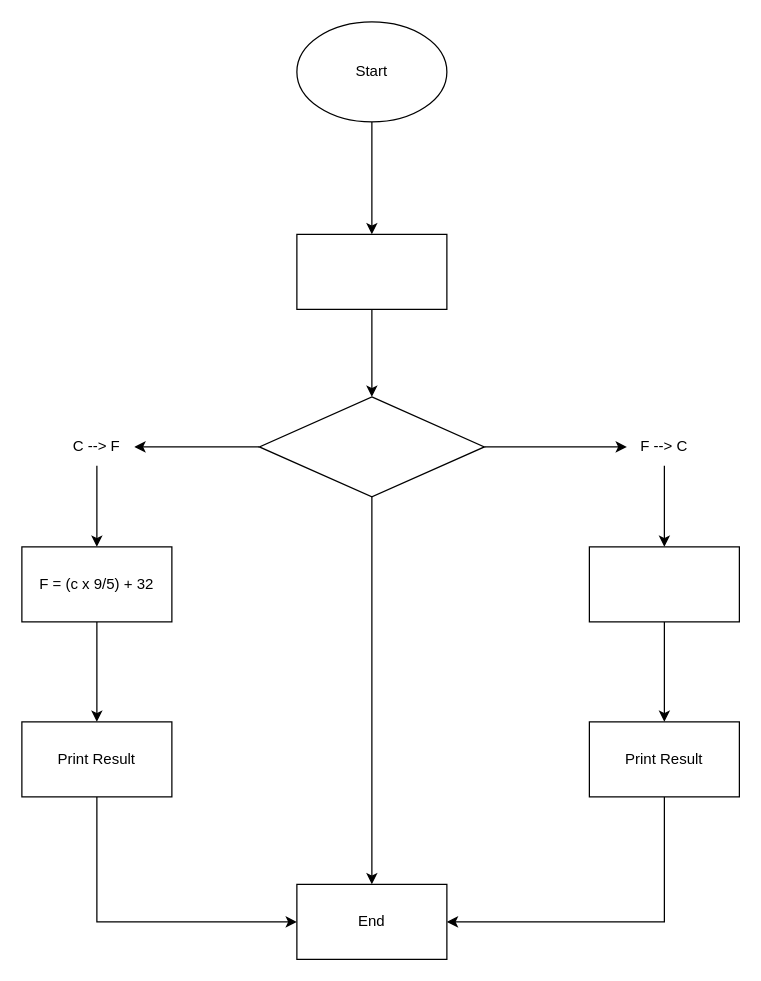
Some shapes in this 761 by 981 pixel diagram are drawn without their labels. Here are the shapes that lost their labels. From the top down, the centre of each, then its label:
At (x=371, y=271): "Input Temp.".
At (x=371, y=446): "Choose conversion type (Celsius --> Fahrenheit or Fahrenheit --> Celsius".
At (x=663, y=584): "C = (F - 32) x 5/9".
